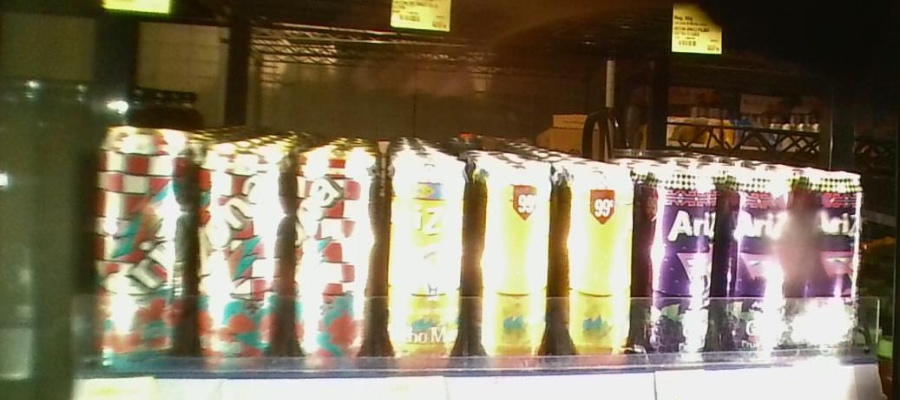bottle: (89, 120, 193, 378), (193, 124, 288, 377), (292, 125, 380, 378), (384, 138, 465, 374), (471, 141, 552, 369), (556, 140, 634, 372), (717, 142, 792, 364), (636, 150, 713, 362), (795, 152, 864, 361)
